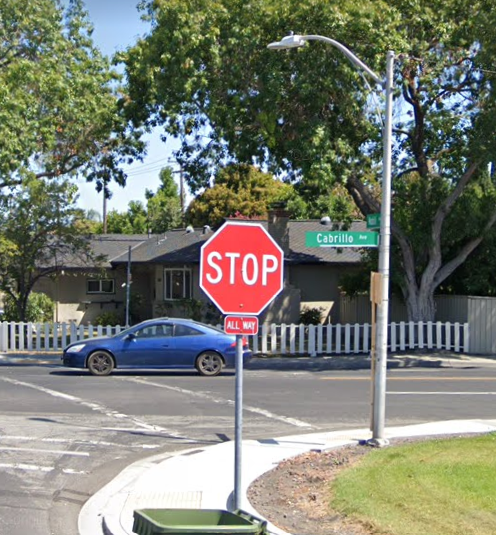stop_sign: (200, 223, 284, 314)
